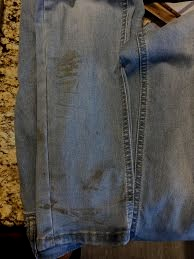earth: (57, 51, 78, 88), (82, 171, 104, 191), (74, 208, 102, 222), (44, 201, 65, 215)
